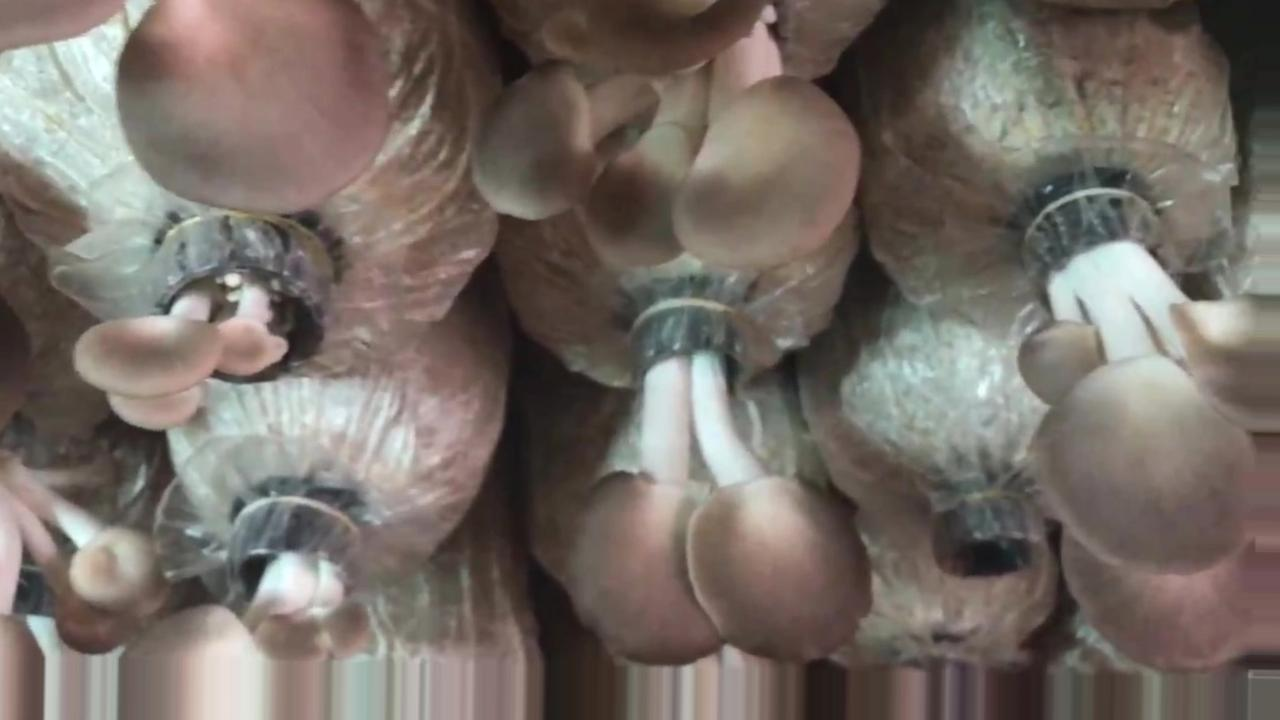nam: (1018, 189, 1280, 669), (571, 302, 870, 666), (473, 1, 853, 267), (117, 1, 389, 213), (124, 499, 380, 720), (78, 238, 323, 427), (1, 442, 163, 720)
